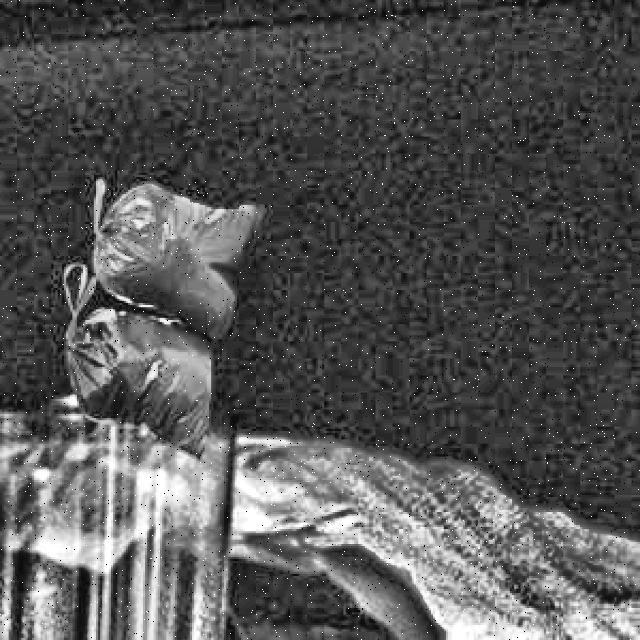Trashbag: (95, 183, 268, 327), (69, 310, 216, 462)
